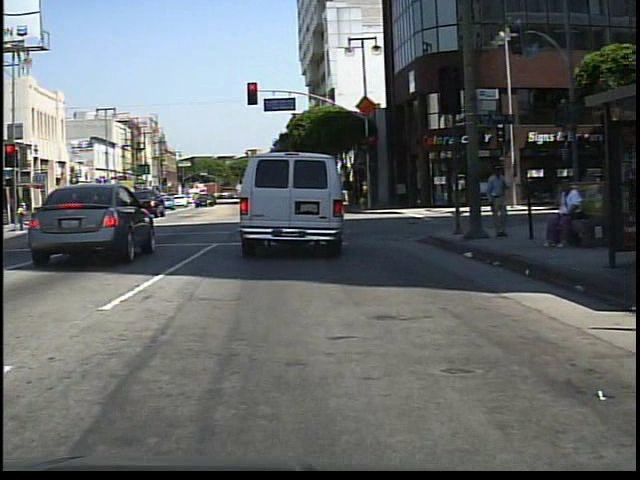person: (539, 176, 589, 250), (482, 161, 512, 241), (11, 194, 31, 235)
